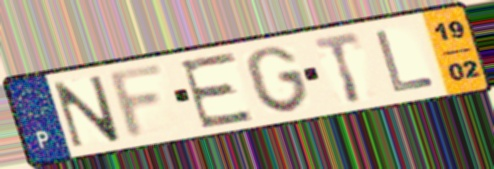E: (177, 49, 257, 131)
F: (106, 60, 170, 144)
G: (243, 43, 313, 115)
L: (371, 27, 439, 95)
N: (50, 73, 124, 151)
T: (310, 29, 365, 106)
